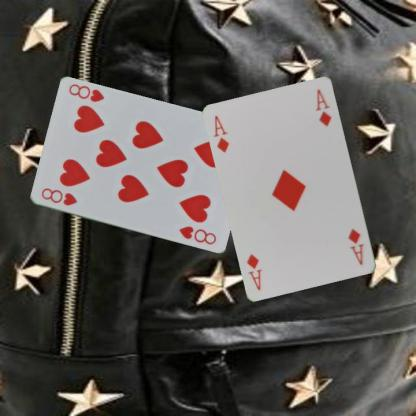8h: (38, 186, 79, 208)
Ad: (211, 113, 230, 154), (346, 226, 365, 266)
